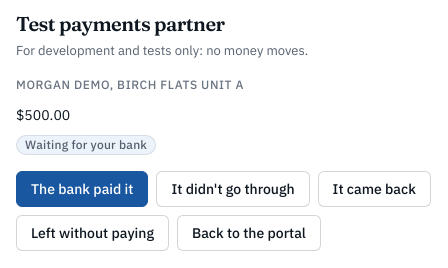
it: PayFakePage › can say the tenant left without paying, which reads not finished
Expected: the text "Waiting for your bank" is shown, [25, 137, 147, 153]
Click the button "Left without paying" at (92, 233), box [16, 215, 169, 251]
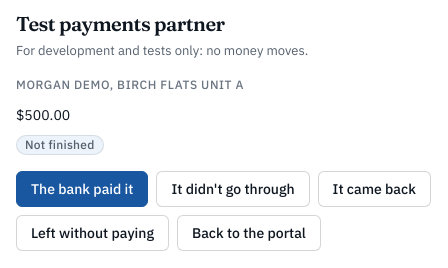
Expected: the text "Not finished" is shown, [25, 137, 94, 153]
